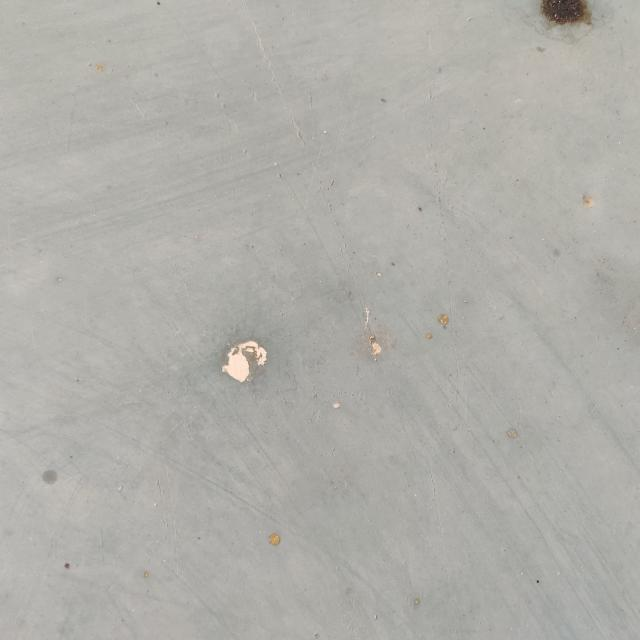paint-off: (202, 318, 284, 405)
